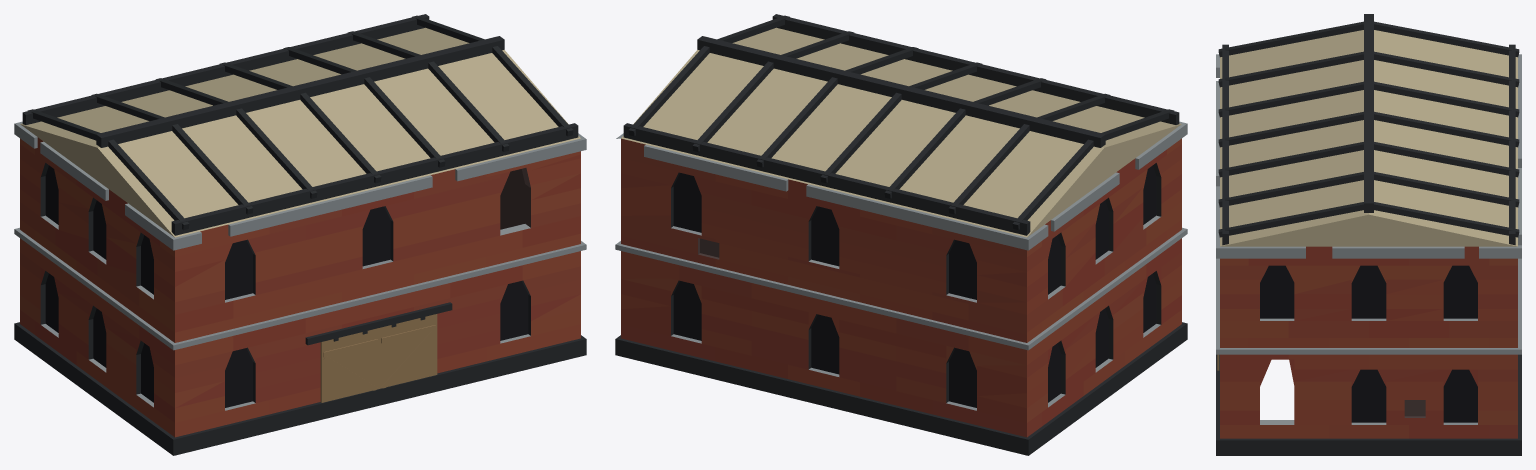
Rendered from factory.glb.
3 renders of one model, left to right at view 1: azimuth 30°, elevation 25°; view 2: azimuth 150°, elevation 25°; view 3: azimuth 270°, elevation 25°, orthographic. The views are drawn at different scales.
Visible parts, largest first — view 1: brick-depot-warehouse, door-l, door-r; view 2: brick-depot-warehouse; view 3: brick-depot-warehouse.
Part boxes in pixels (x1,y1,x2,y2): brick-depot-warehouse: [14, 14, 586, 455]; door-l: [320, 328, 379, 402]; door-r: [379, 314, 437, 388]; brick-depot-warehouse: [615, 14, 1187, 455]; brick-depot-warehouse: [1216, 14, 1521, 455].
Bounding box in the file's own units: 12 × 7.23 × 8.
